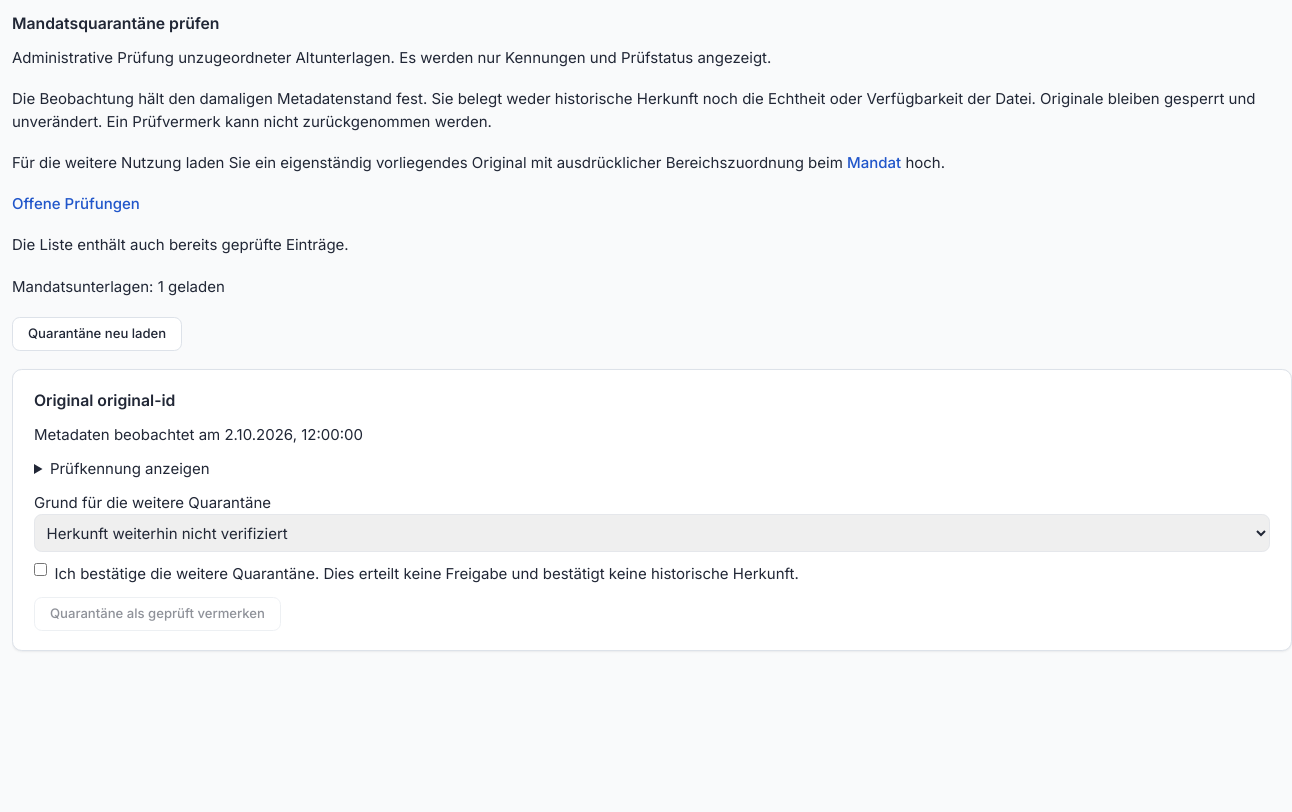
Scenario: uses the server disposition after refreshing a lost response
Expected: the button "Quarantäne als geprüft vermerken" is shown, [34,597,281,631]
Click the checkbox. click: (40,570)
box: [34,563,47,576]
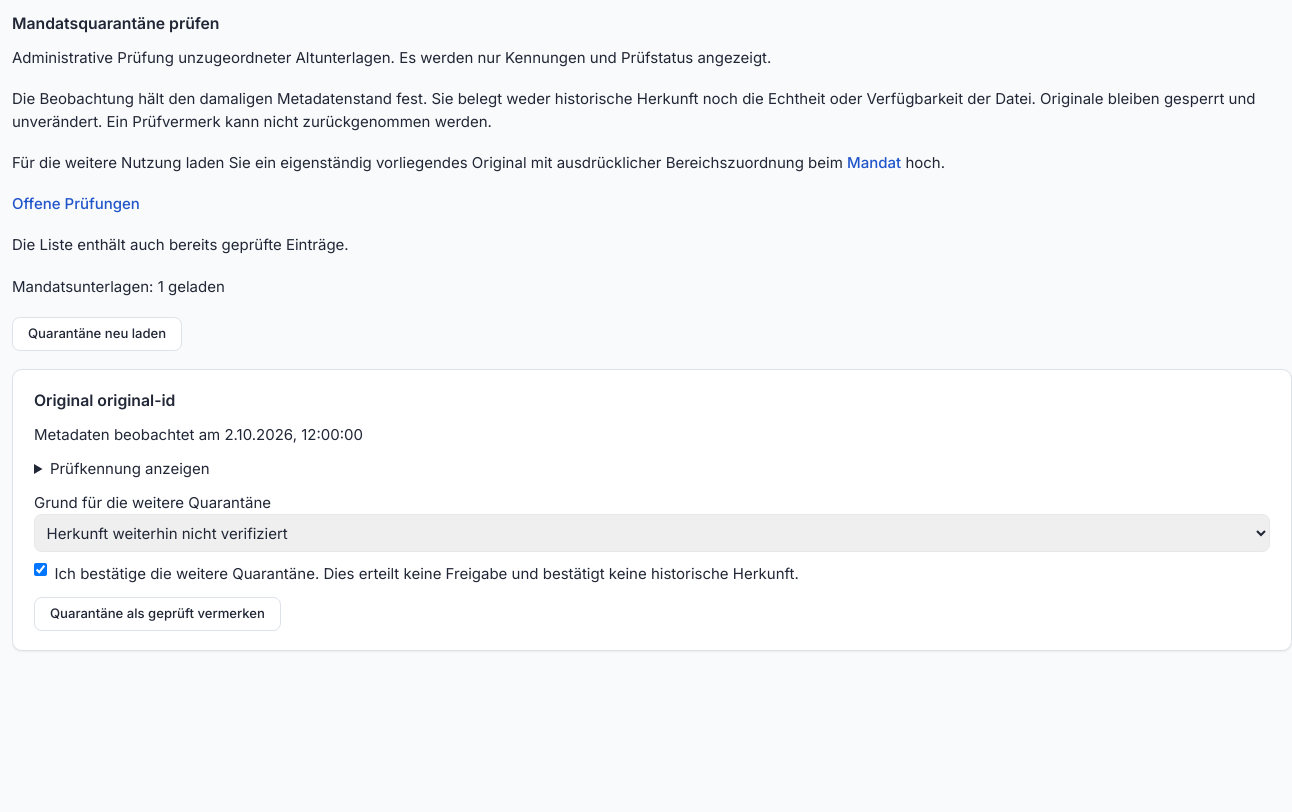
Click the button "Quarantäne als geprüft vermerken". click: (157,614)
box: [34,597,281,631]
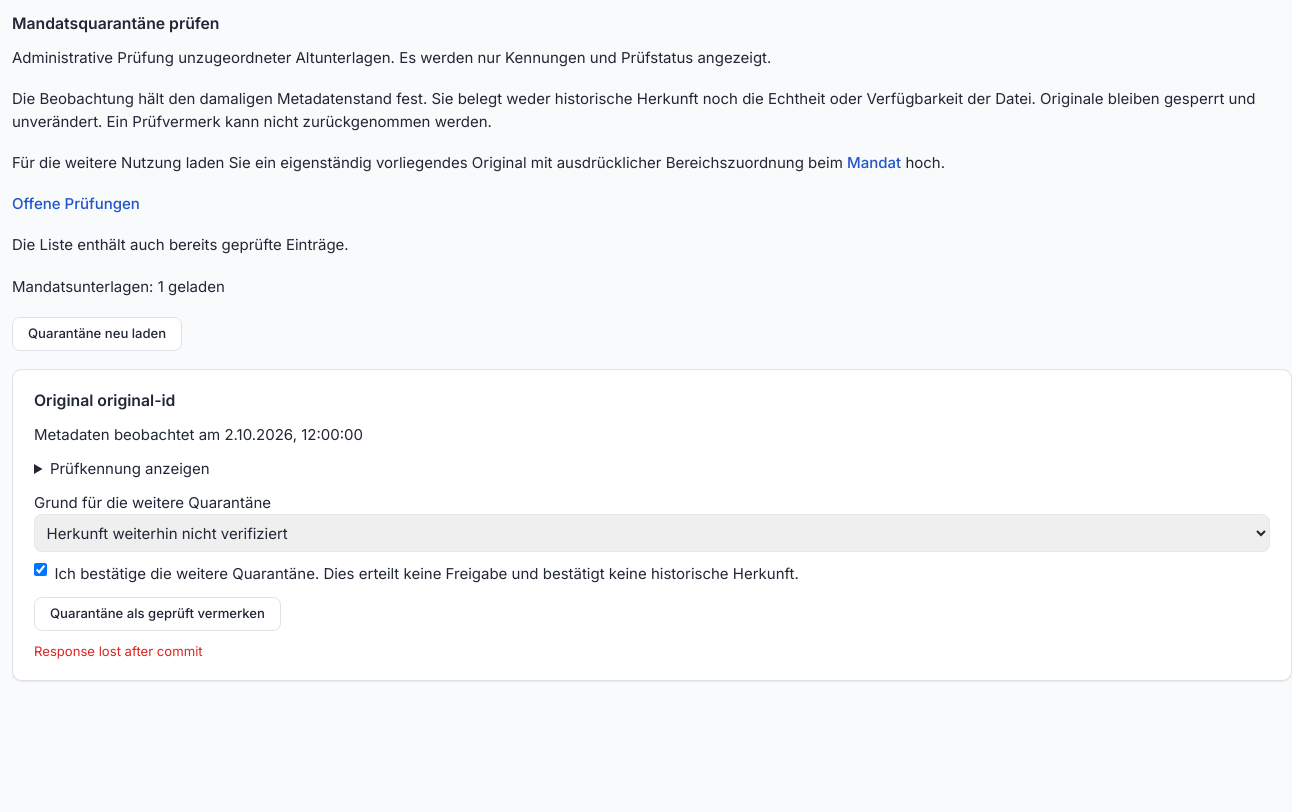
Expected: the message "Response lost after commit" is shown, [34,643,203,659]
Click the button "Quarantäne neu laden". click: (97,334)
box: [12,317,182,351]
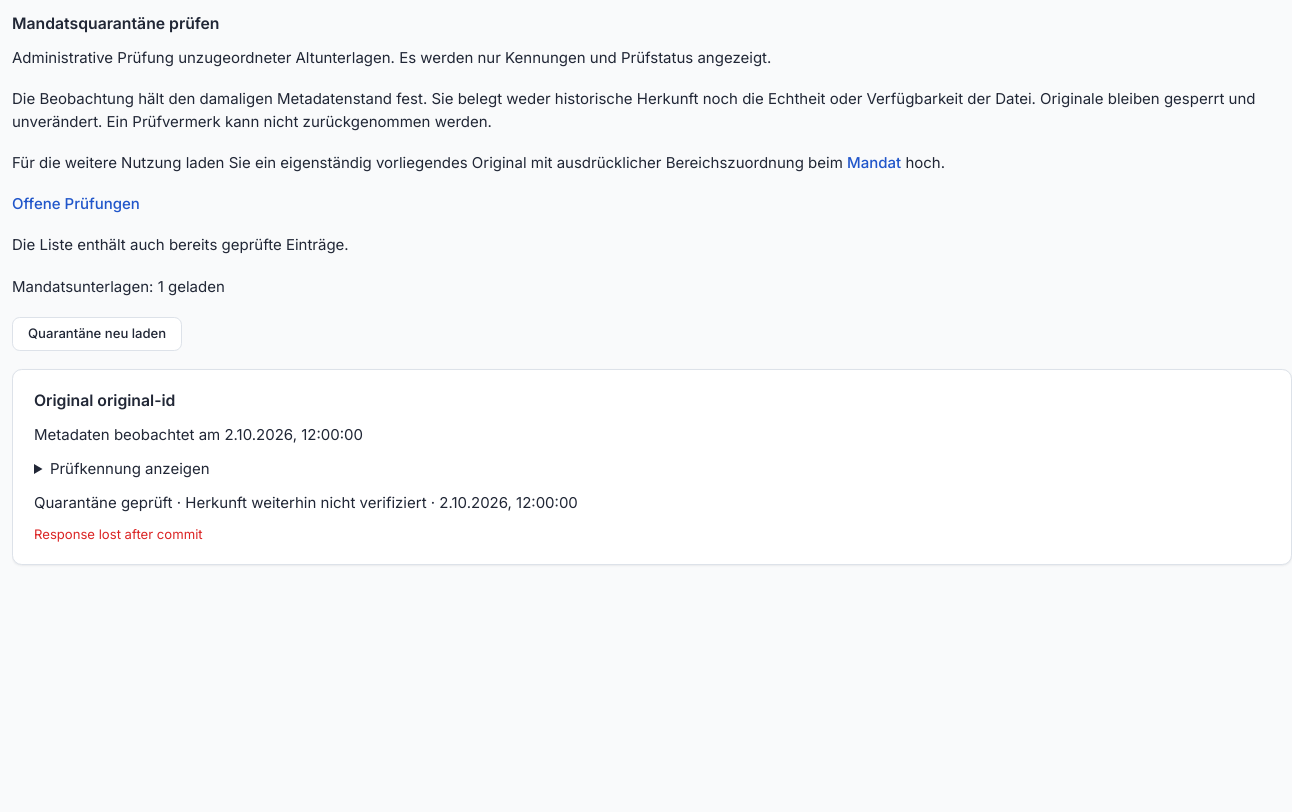
Expected: the text "Quarantäne geprüft ·" is shown, [34,492,185,512]
Expected: the button "Quarantäne als geprüft vermerken" is gone
